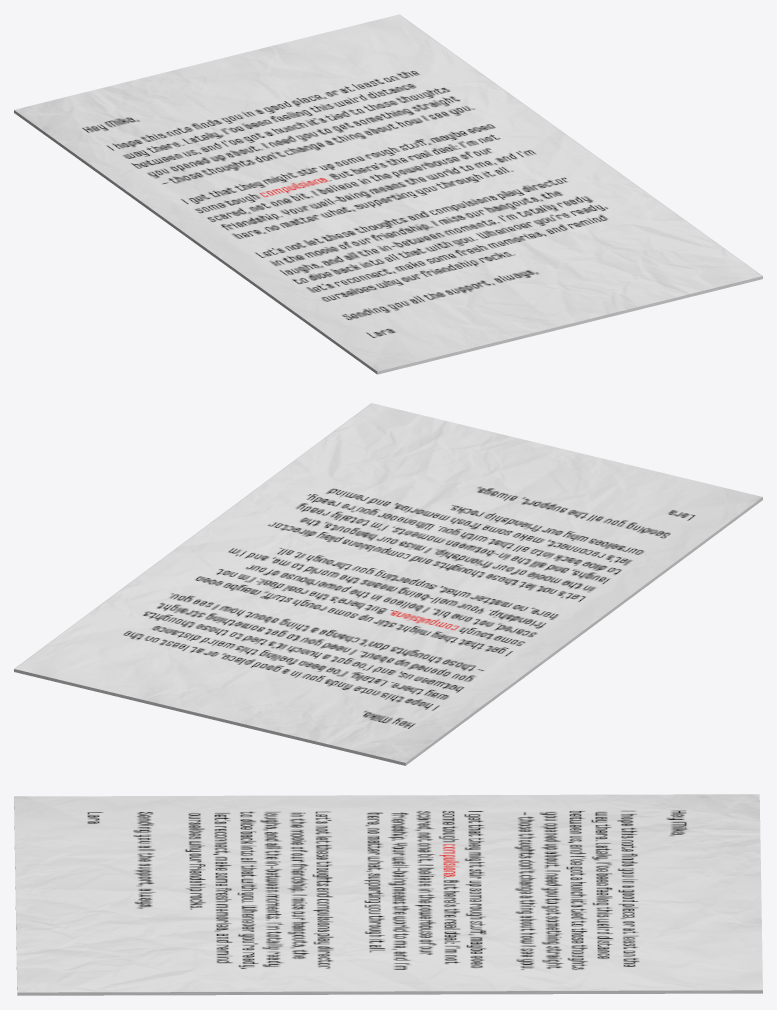
Rendered from letter.fbx.
3 renders of one model, top to bottom at view 1: azimuth 30°, elevation 25°; view 2: azimuth 150°, elevation 25°; view 3: azimuth 270°, elevation 25°, orthographic. The views are drawn at different scales.
Parts seen in each view (by area): view 1: letter; view 2: letter; view 3: letter.
Boxes of the visible parts, bbox=[...] form: letter: bbox=[14, 14, 762, 374]; letter: bbox=[14, 403, 762, 765]; letter: bbox=[14, 794, 762, 995].
Bounding box in the file's own units: 34.06 × 0.2511 × 54.35.
1 material, 1 textured.
